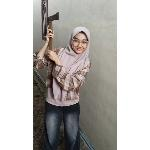Kapak: (46, 11, 61, 59)
